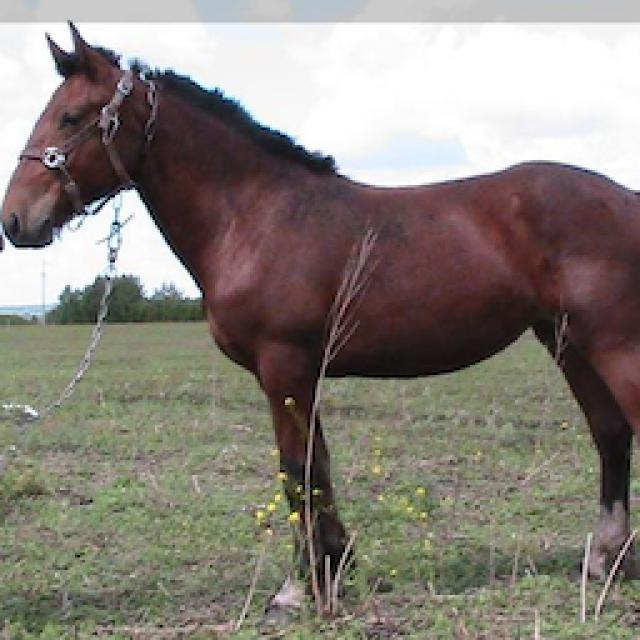Horse: (0, 18, 638, 618)
